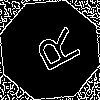R: (25, 25, 83, 79)
